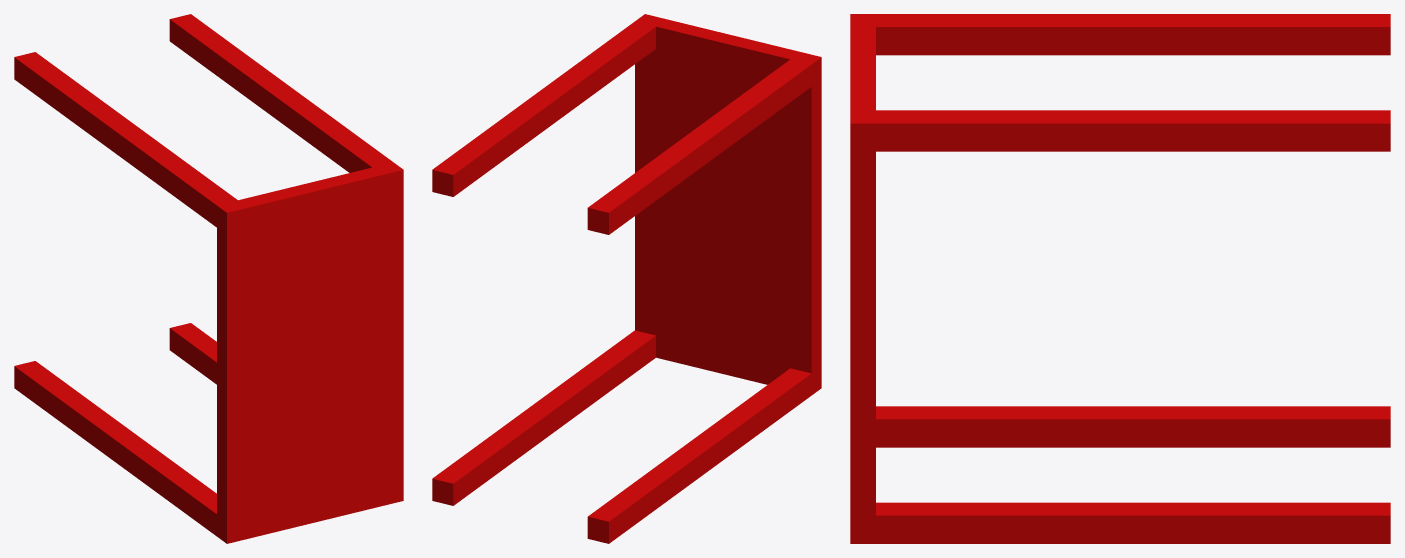
Rendered from high_table.obj.
3 views of the same model, side by side, from view 1: azimuth 30°, elevation 25°; view 2: azimuth 150°, elevation 25°; view 3: azimuth 270°, elevation 25° (orthographic). The views are drawn at different scales.
Bounding box in the file's own units: 0.5 × 0.895 × 1.04.
